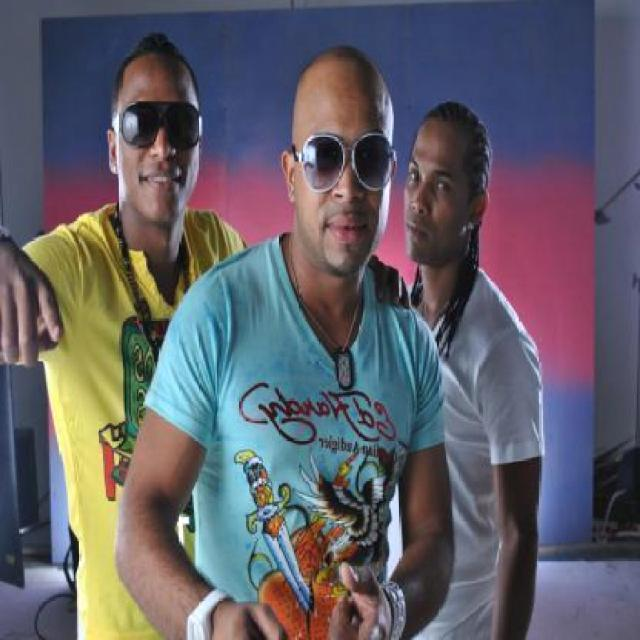face_nomask: (308, 133, 389, 244), (113, 104, 207, 196), (399, 162, 459, 252)
glasses: (296, 127, 401, 193), (116, 95, 210, 150)
hand_noglove: (1, 240, 67, 377), (326, 557, 399, 640)
head_nohelmet: (296, 47, 390, 107), (119, 36, 207, 89), (408, 96, 487, 147)
person: (130, 43, 456, 640), (26, 37, 246, 640), (394, 94, 549, 640)
